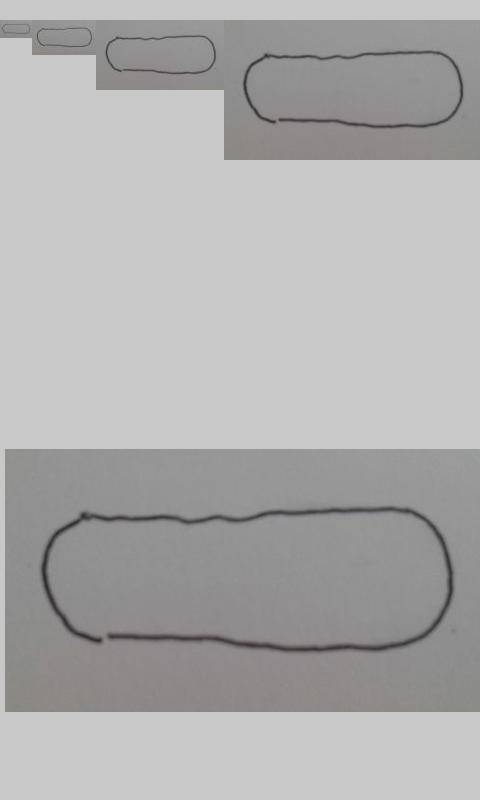chip: (37, 503, 456, 655), (241, 50, 464, 131), (105, 34, 217, 75), (36, 27, 93, 49), (1, 23, 31, 36)
